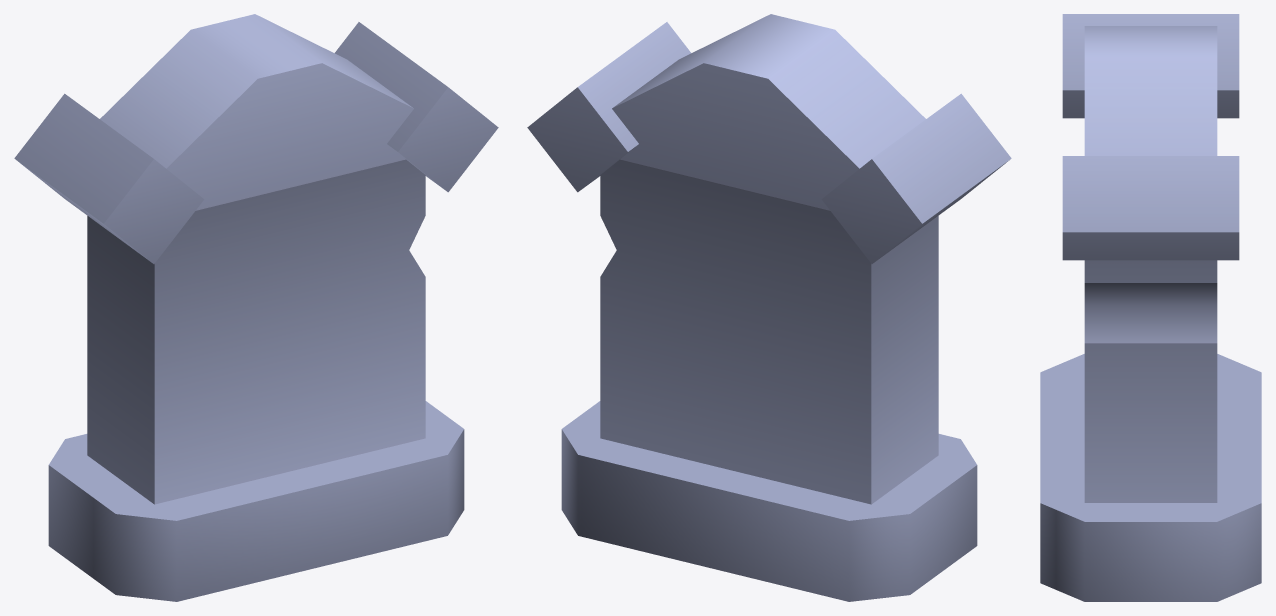
File: gravestone-decorative.glb
3 renders of one model, left to right at view 1: azimuth 30°, elevation 25°; view 2: azimuth 150°, elevation 25°; view 3: azimuth 270°, elevation 25°, orthographic.
Visible parts, largest first — view 1: gravestone-decorative; view 2: gravestone-decorative; view 3: gravestone-decorative.
Boxes of the visible parts, box(x1,y1,x2,y2) form: gravestone-decorative: box(14, 14, 498, 601); gravestone-decorative: box(527, 14, 1011, 601); gravestone-decorative: box(1040, 14, 1261, 601).
Size of the model in its own units: 0.5101 by 0.5942 by 0.25.
1 material, 1 textured.
